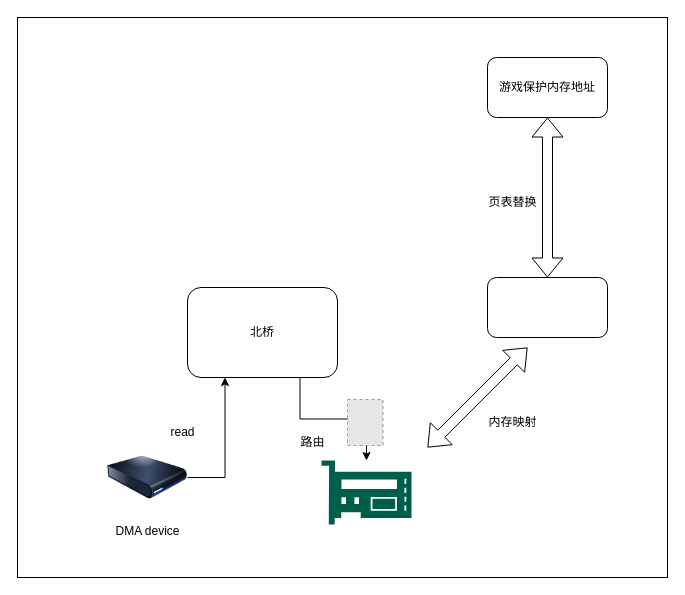
Image size: 685x595. Some labels were removed from this diagram. Grey dashed boxes stand in for pictures. Each missing label, with the centre of its shape:
"MMIO" goes at pixel 547 307.
"显卡" goes at pixel 366 492.
